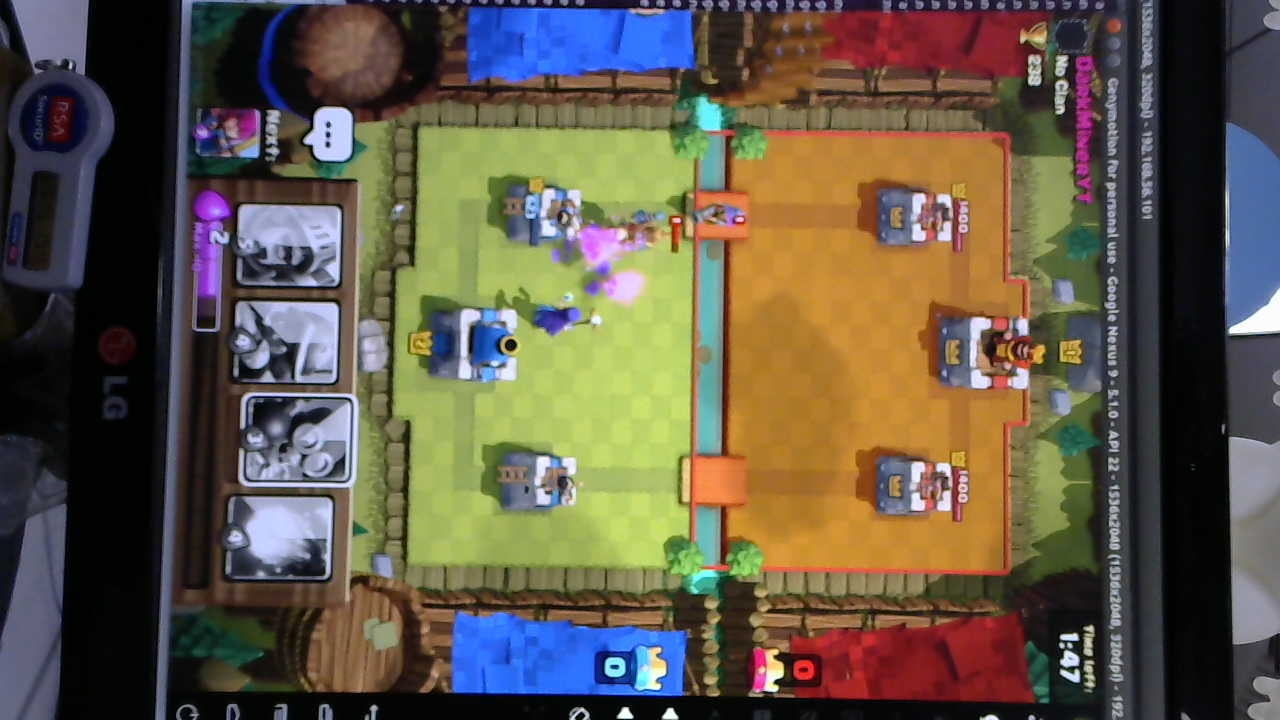arena: (499, 183, 587, 246), (497, 453, 581, 513)
earena: (876, 454, 957, 519), (877, 192, 956, 247)
eking: (939, 310, 1046, 392)
king: (428, 301, 523, 385)
musketeer: (688, 201, 748, 227)
prince: (601, 210, 675, 252)
witch: (532, 304, 596, 339)
